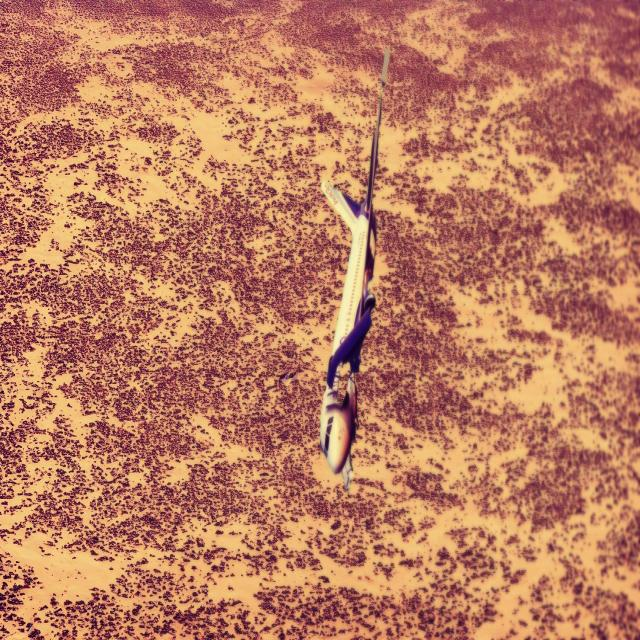airplane: (318, 45, 390, 491)
